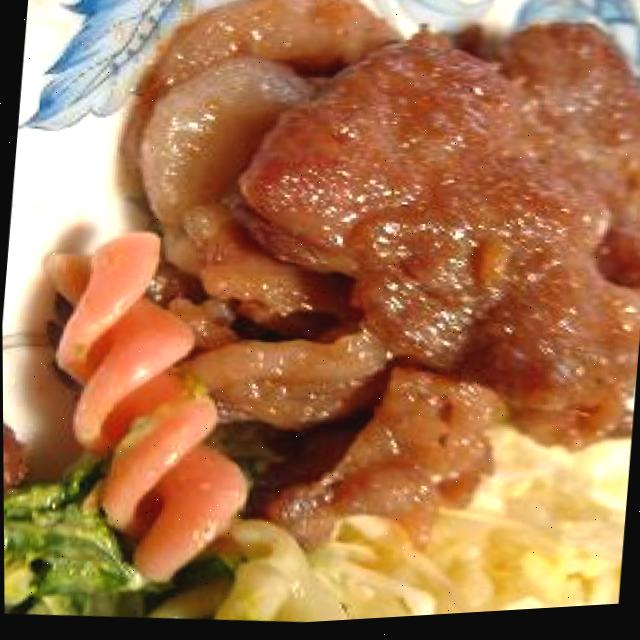猪肉菜式: (133, 0, 640, 581)
